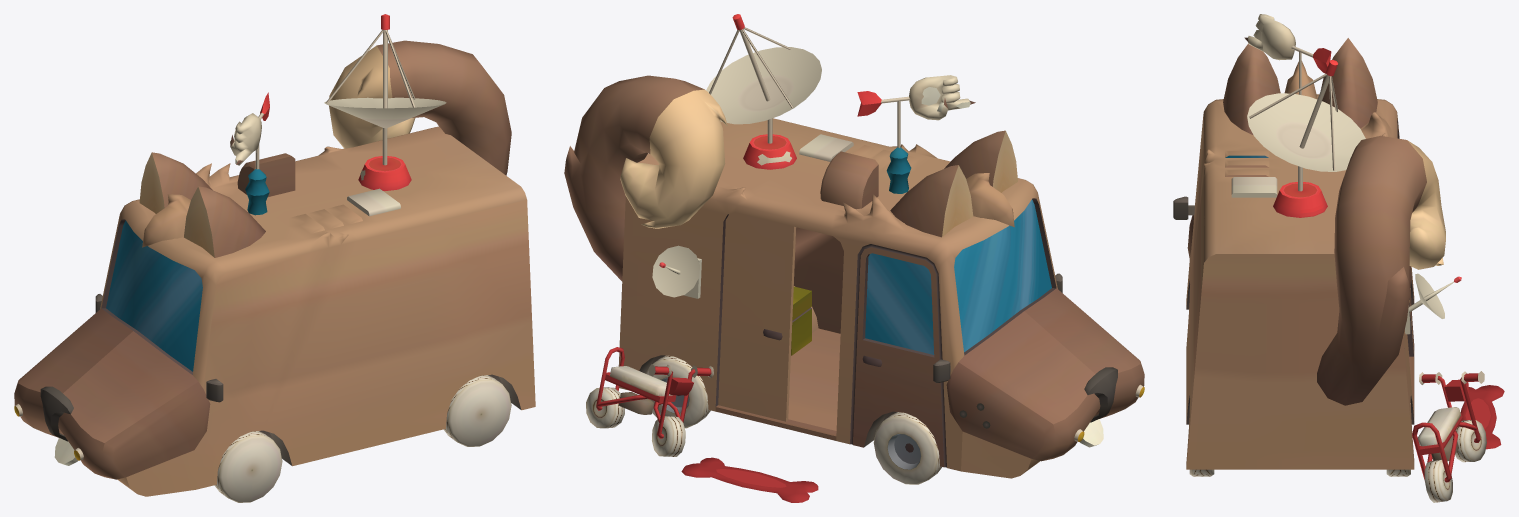
3 views of the same model, side by side, from view 1: azimuth 30°, elevation 25°; view 2: azimuth 150°, elevation 25°; view 3: azimuth 270°, elevation 25° (orthographic). The views are drawn at different scales.
Visible parts, largest first — view 1: Model; view 2: Model; view 3: Model.
Boxes of the visible parts, x1,y1,x2,y2 form: Model: [14, 14, 535, 502]; Model: [564, 14, 1144, 502]; Model: [1173, 14, 1504, 502].
Bounding box in the file's own units: 8.32 × 6.24 × 4.68.
